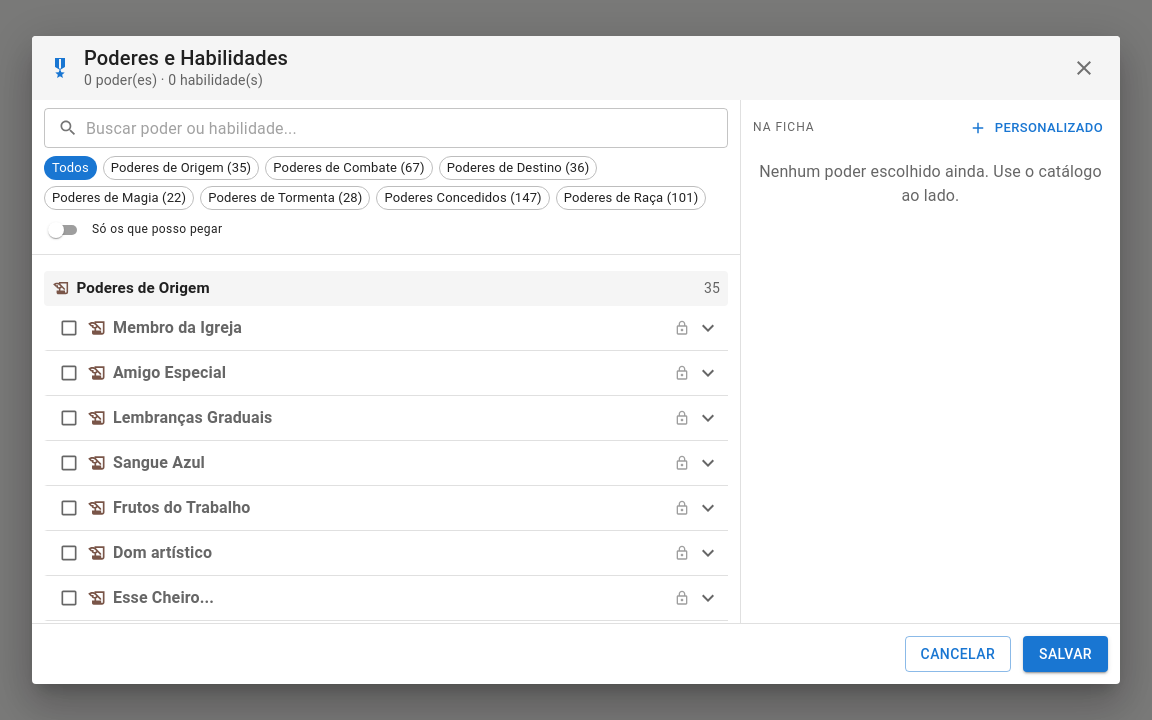
Test: PowersEditorModal › marcar um poder o leva para o painel da ficha
Type "Ataque Poderoso" into the field with placeholder "Buscar poder ou habilidade...".
click(407, 128); type("Ataque Poderoso")  # box top-left (86, 108), bottom-right (728, 148)
(page scrolled)
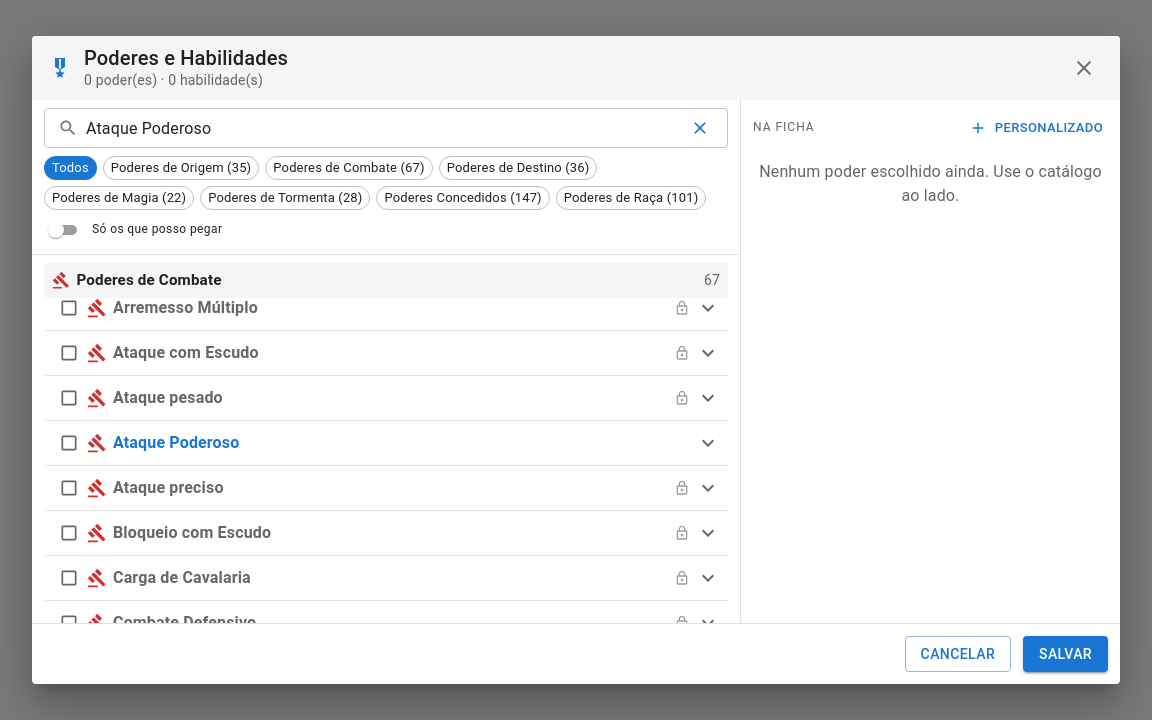
Click the checkbox named "Selecionar Ataque Poderoso".
click(69, 443)  # box top-left (59, 433), bottom-right (79, 453)
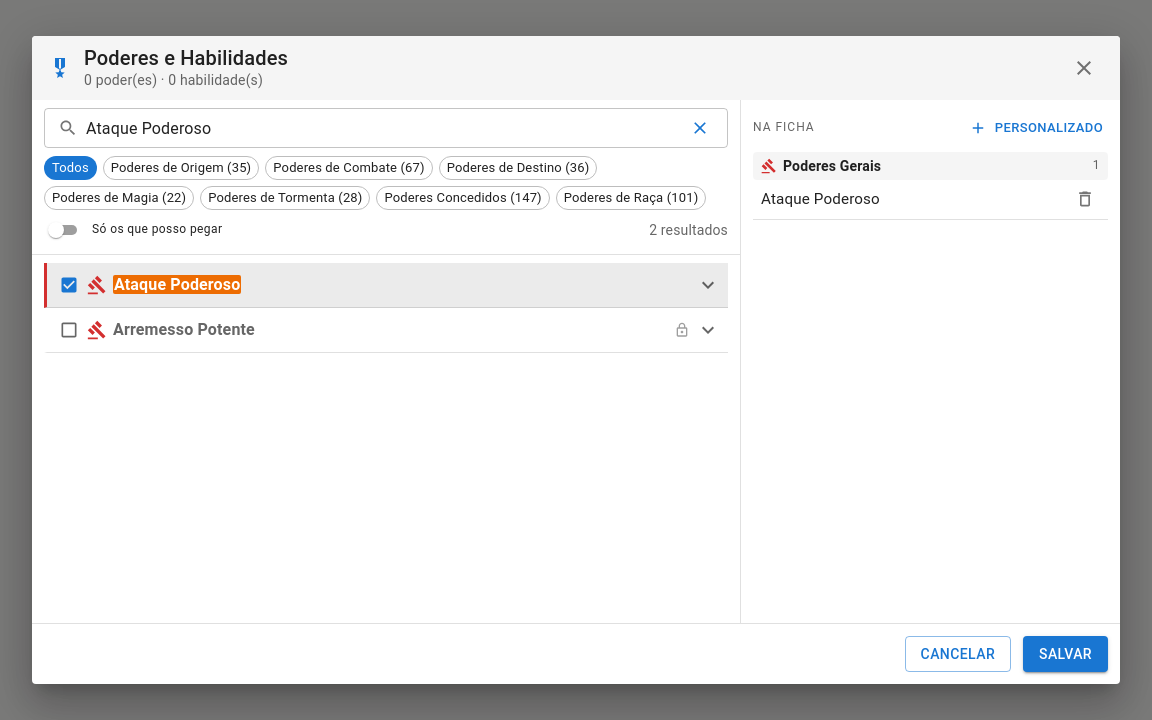
expect the text "Poderes Gerais" is shown: met, box top-left (783, 158), bottom-right (881, 174)
expect the button named "Remover Ataque Poderoso" is shown: met, box top-left (1070, 184), bottom-right (1100, 214)
